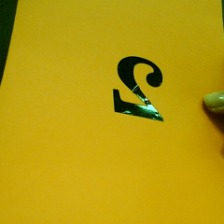orange2: (107, 52, 169, 125)
